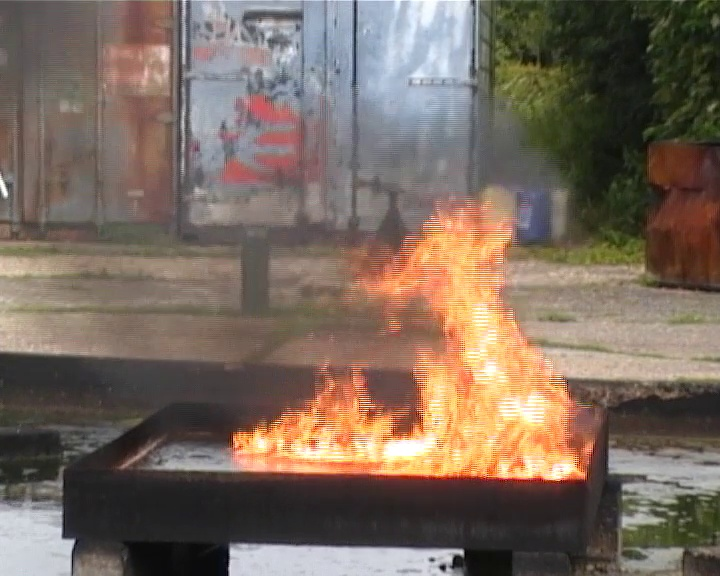fire: (232, 204, 583, 476)
